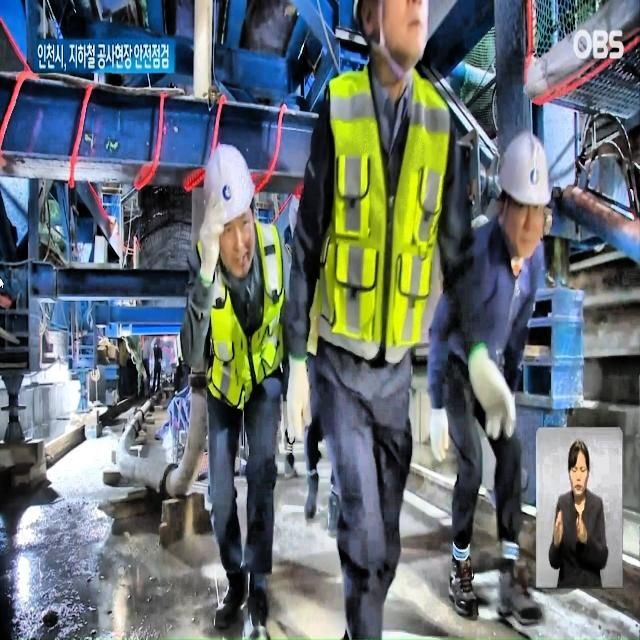safety_helmet: (193, 141, 257, 223), (499, 128, 555, 216)
safety_jacket: (321, 70, 450, 367), (195, 239, 287, 412)
